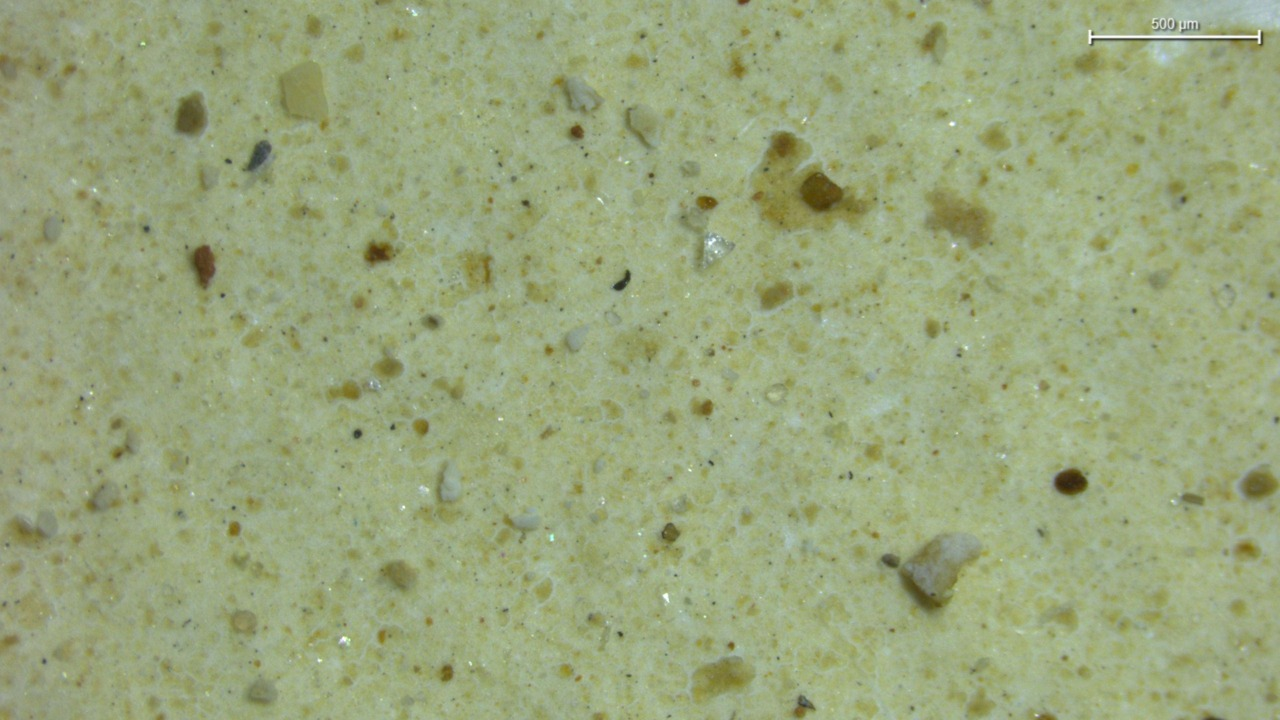microplastic_fragment: (898, 533, 981, 605), (280, 61, 328, 121), (626, 104, 662, 148), (561, 77, 603, 112), (702, 232, 735, 267), (438, 460, 462, 502), (565, 326, 589, 351)
